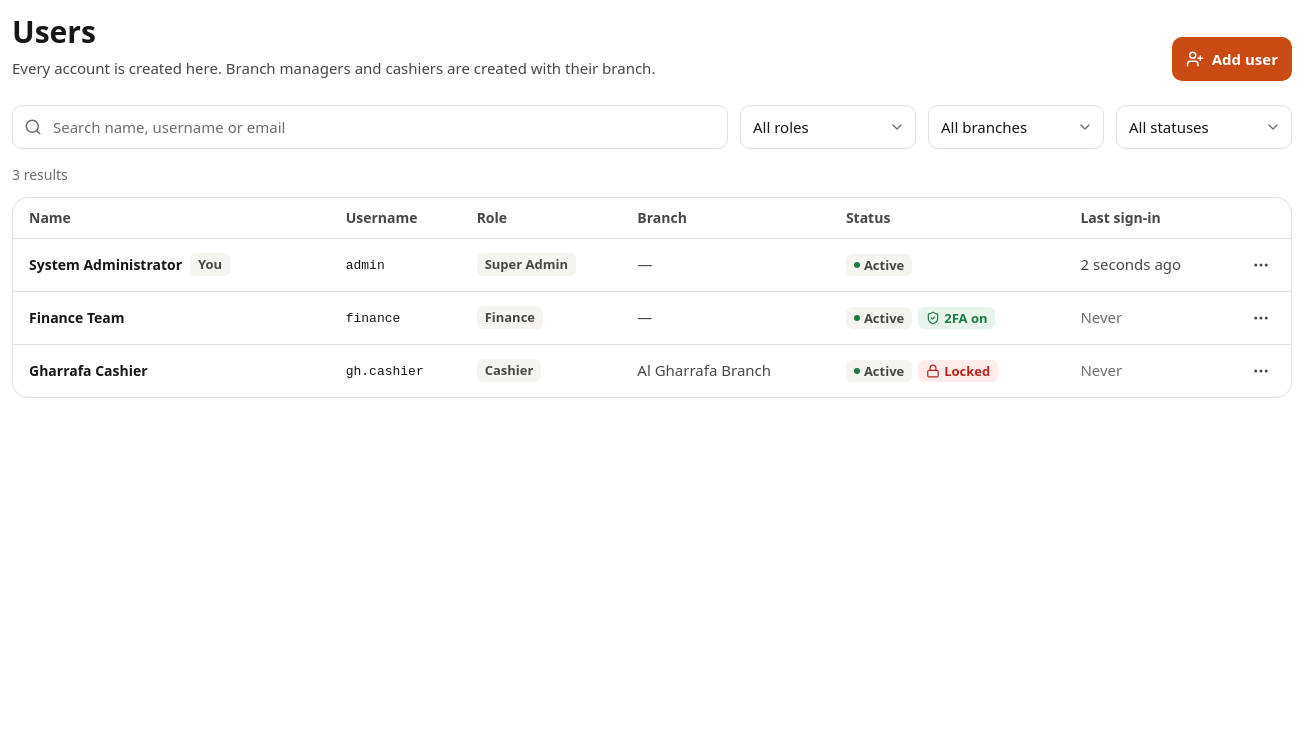
Test: Users page › offers only the actions that make sense for each row
expect the text "Gharrafa Cashier" is shown: met, box [29,361,148,381]
Note: branch staff: showroom reset and unlock, no delete
Click the button named "Actions for Gharrafa Cashier".
click(1261, 371)  # box [1243,353,1279,389]
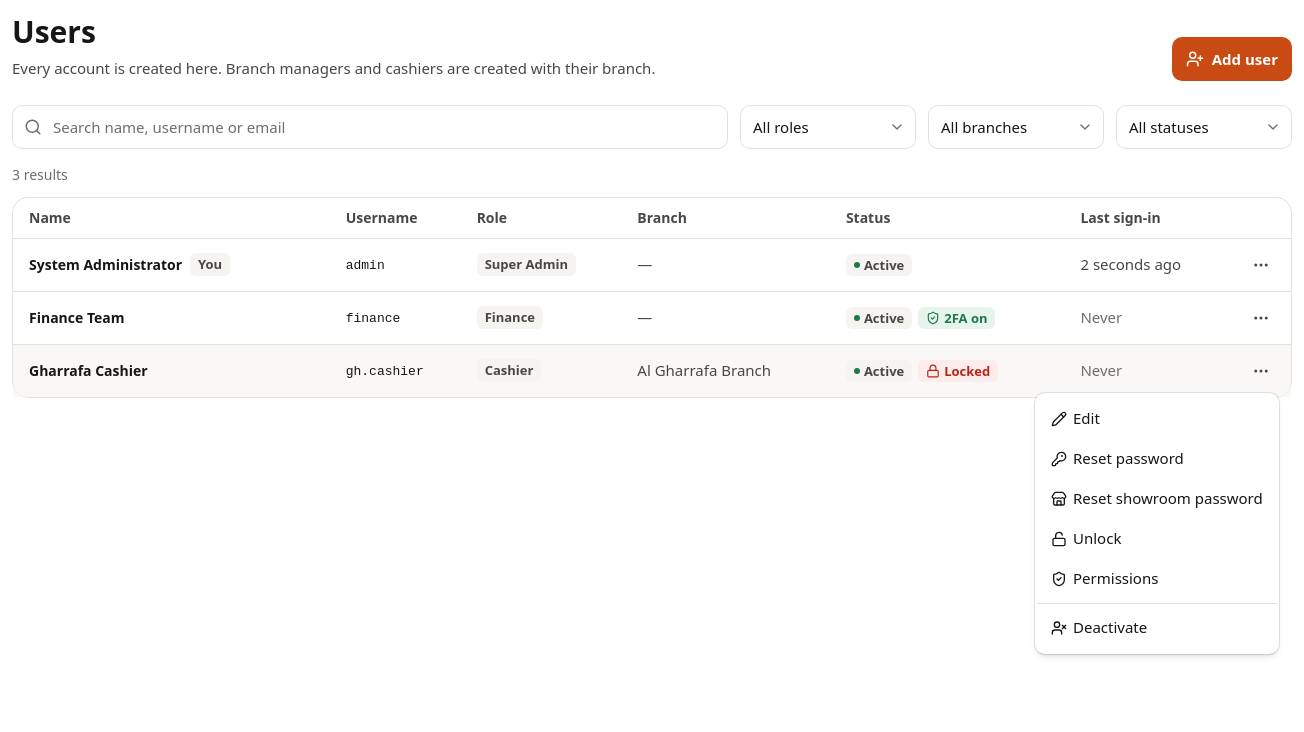
expect the menu item "Reset showroom password" is shown: met, box [1051,488,1263,508]
expect the menu item "Unlock" is shown: met, box [1051,528,1121,548]
expect the menu item "Deactivate" is shown: met, box [1051,617,1147,637]
Press Escape
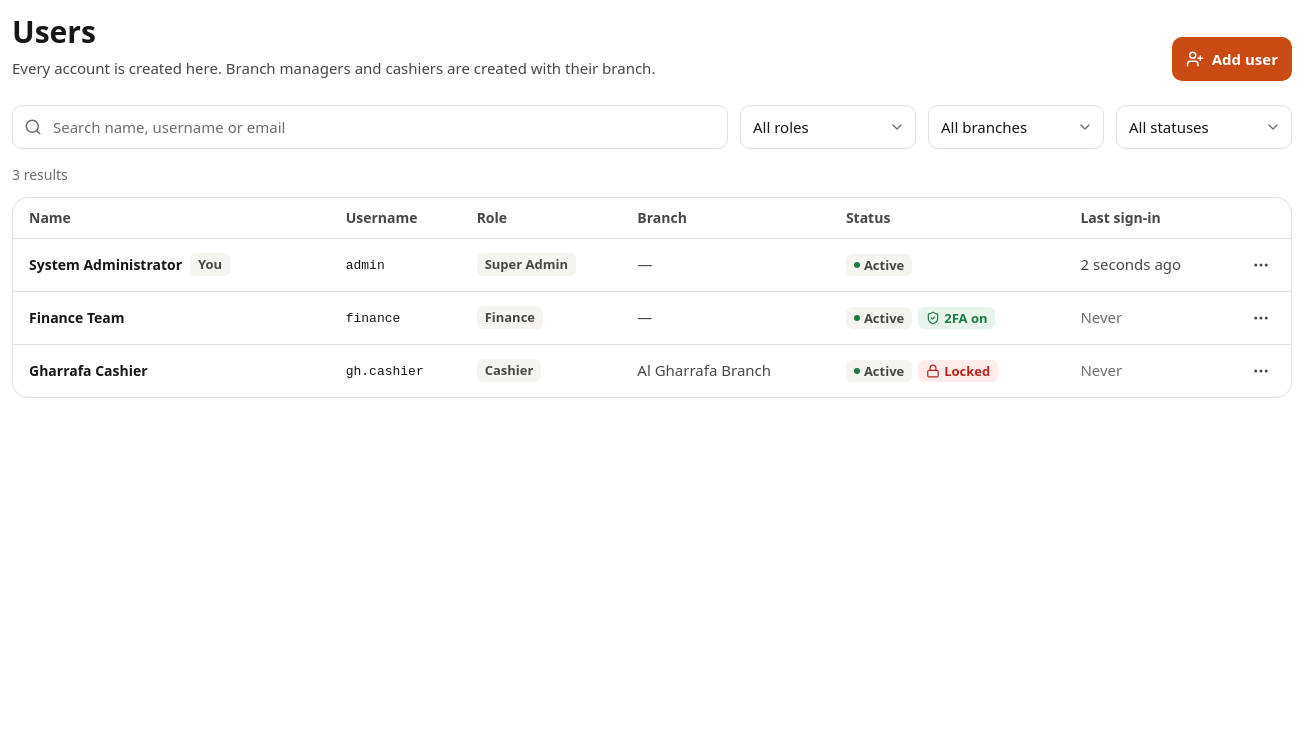
Note: own row: no deactivate, delete or password reset
Click the button named "Actions for System Administrator".
click(1261, 265)  # box [1243,247,1279,283]
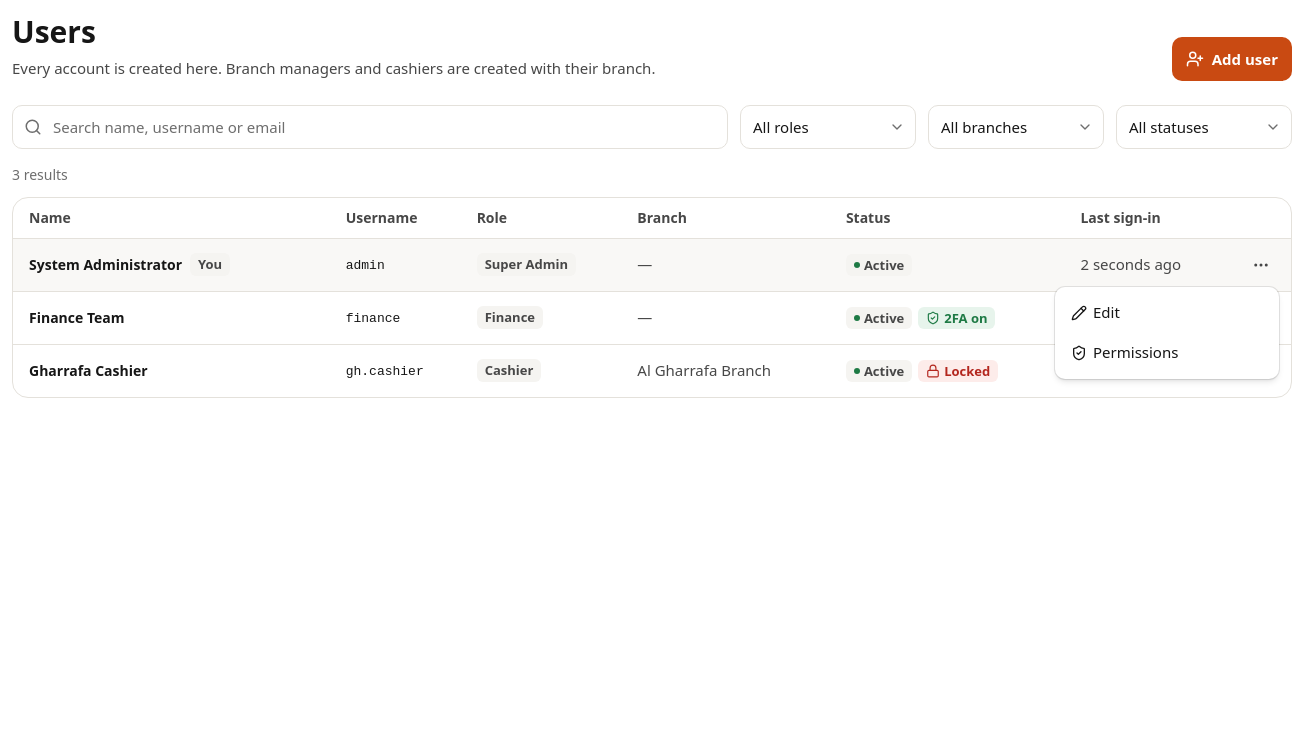
expect the menu item "Deactivate" is not shown: met
expect the menu item "Edit" is shown: met, box [1071,302,1120,322]
Press Escape
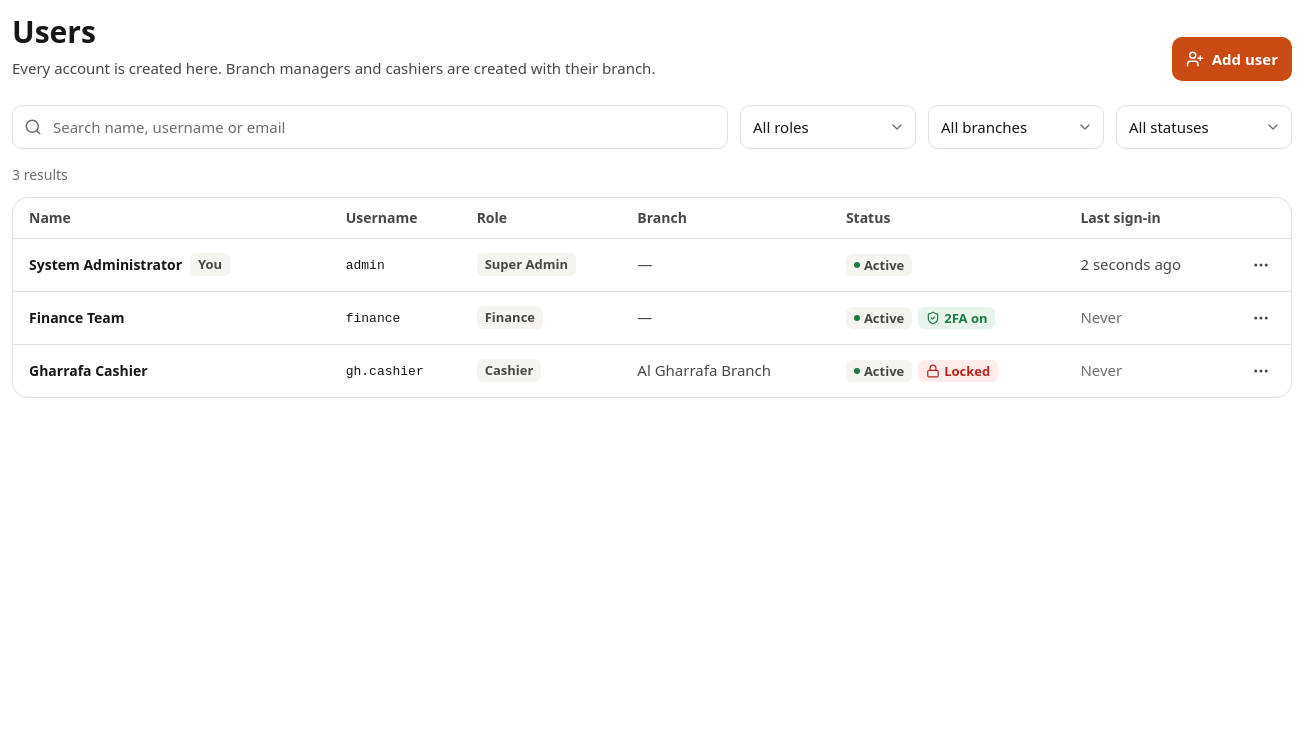
Note: another admin account: delete and 2FA reset available, no showroom reset
Click the button named "Actions for Finance Team".
click(1261, 318)  # box [1243,300,1279,336]
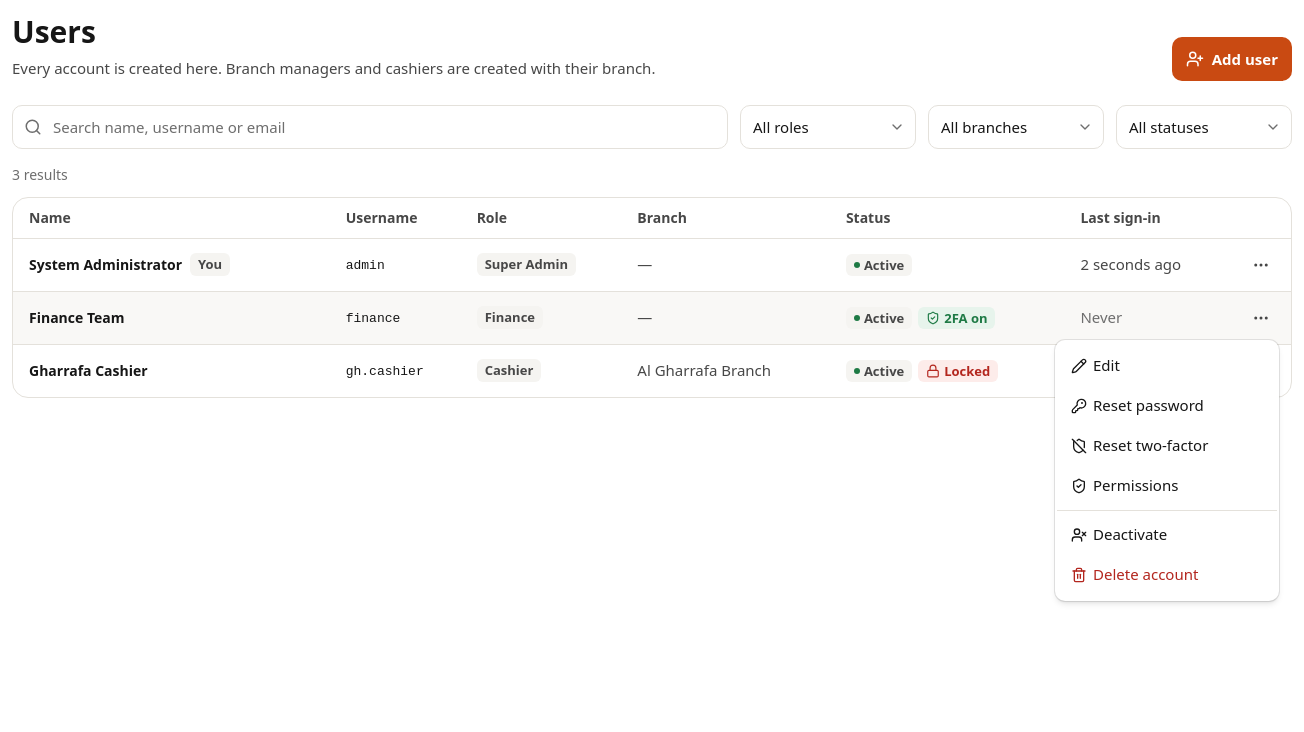
expect the menu item "Reset showroom password" is not shown: met
expect the menu item "Delete account" is shown: met, box [1071,564,1198,584]
expect the menu item "Reset two-factor" is shown: met, box [1071,435,1208,455]
